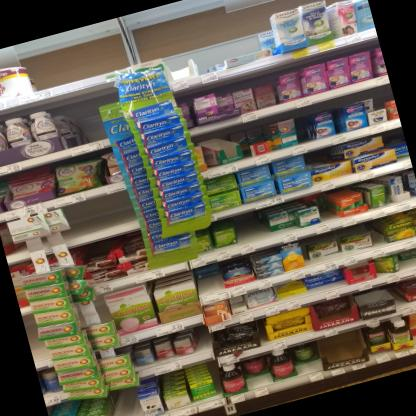empty_space: (37, 46, 113, 92), (158, 27, 197, 84), (95, 193, 132, 233), (187, 25, 216, 76), (63, 202, 93, 242), (235, 212, 267, 247), (111, 391, 141, 416)
